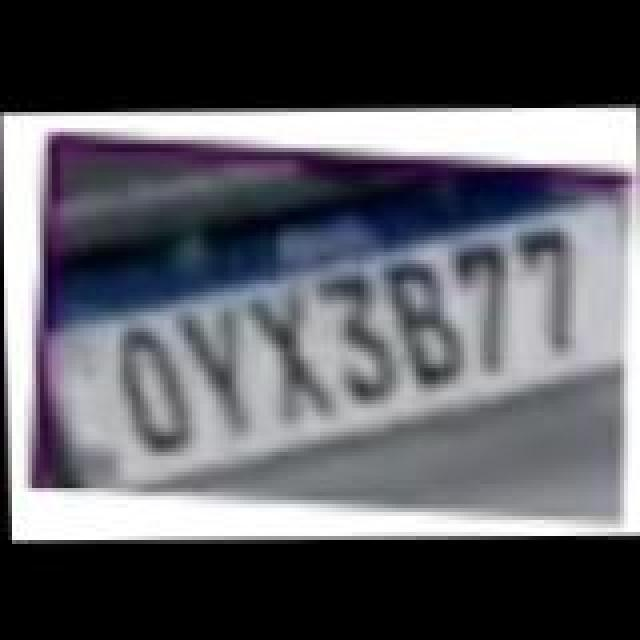3: (316, 268, 404, 400)
7: (450, 240, 526, 368), (514, 224, 590, 352)
B: (380, 256, 468, 384)
O: (112, 320, 196, 452)
X: (246, 290, 338, 418)
Y: (180, 306, 260, 438)
